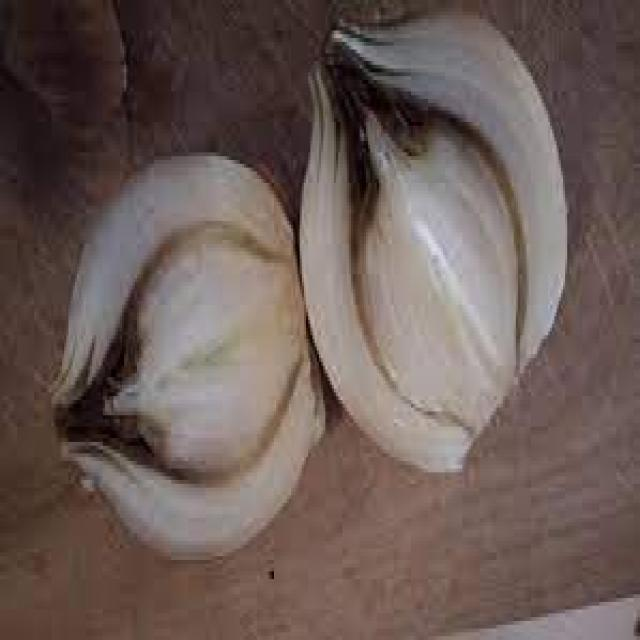Onion: (303, 4, 570, 474), (48, 153, 330, 563)
